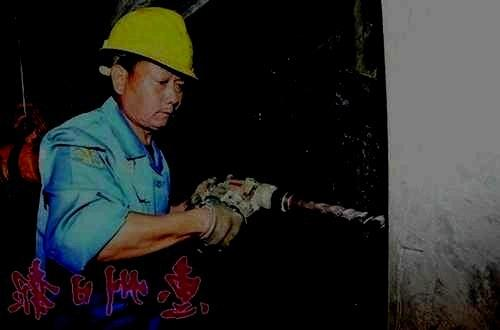helmet: (99, 7, 199, 131)
